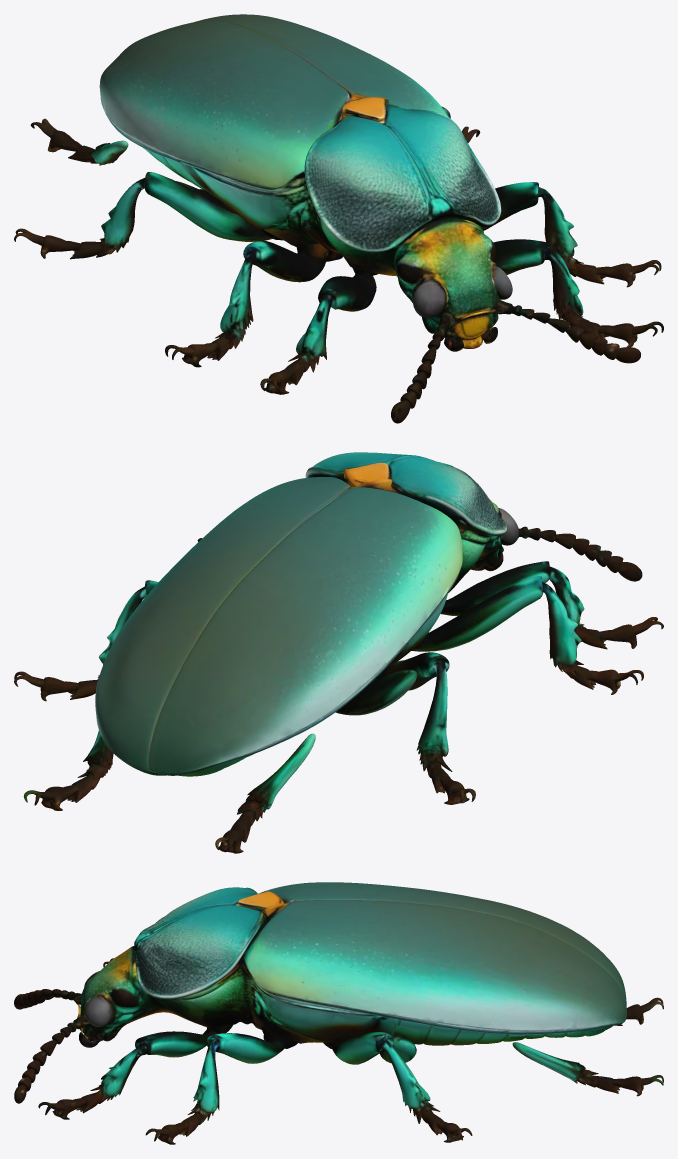
Rendered from insect-cursor.glb.
3 renders of one model, top to bottom at view 1: azimuth 30°, elevation 25°; view 2: azimuth 150°, elevation 25°; view 3: azimuth 270°, elevation 25°, orthographic. The views are drawn at different scales.
Parts seen in each view (by area): view 1: part_14, part_12, part_17, part_13, part_8, part_5, part_2, part_4, part_6, part_11, part_18, part_10 (+2 smaller); view 2: part_14, part_13, part_12, part_5, part_8, part_2, part_0, part_1, part_3, part_17, part_10, part_18; view 3: part_13, part_17, part_12, part_14, part_4, part_3, part_6, part_16, part_1, part_11, part_15, part_10 (+3 smaller).
Boxes of the visible parts, bbox=[...] form: part_14: bbox=[99, 20, 349, 189]; part_12: bbox=[304, 97, 501, 252]; part_17: bbox=[183, 163, 500, 340]; part_13: bbox=[195, 14, 448, 120]; part_8: bbox=[14, 172, 283, 259]; part_5: bbox=[165, 240, 342, 367]; part_2: bbox=[260, 268, 377, 394]; part_4: bbox=[481, 182, 661, 287]; part_6: bbox=[493, 239, 583, 319]; part_11: bbox=[469, 300, 640, 363]; part_18: bbox=[413, 279, 497, 351]; part_10: bbox=[391, 312, 485, 423]; part_14: bbox=[148, 487, 462, 775]; part_13: bbox=[95, 477, 356, 775]; part_12: bbox=[305, 452, 506, 543]; part_5: bbox=[411, 576, 643, 694]; part_8: bbox=[335, 652, 475, 804]; part_2: bbox=[440, 561, 663, 649]; part_0: bbox=[215, 733, 315, 853]; part_1: bbox=[23, 731, 113, 810]; part_3: bbox=[14, 580, 158, 701]; part_17: bbox=[383, 499, 503, 670]; part_10: bbox=[518, 526, 642, 581]; part_18: bbox=[472, 508, 519, 571]; part_13: bbox=[242, 900, 626, 1034]; part_17: bbox=[80, 946, 397, 1043]; part_12: bbox=[134, 887, 284, 999]; part_14: bbox=[261, 882, 626, 1005]; part_4: bbox=[145, 1028, 297, 1144]; part_3: bbox=[323, 1032, 472, 1142]; part_6: bbox=[101, 1024, 232, 1097]; part_16: bbox=[392, 1019, 612, 1045]; part_1: bbox=[512, 1042, 663, 1096]; part_11: bbox=[14, 1006, 89, 1103]; part_15: bbox=[38, 1084, 113, 1119]; part_10: bbox=[14, 989, 81, 1011].
Bounding box in the file's own units: 0.7627 × 0.2976 × 1.1.
Materials: 1 (1 with a texture image).
